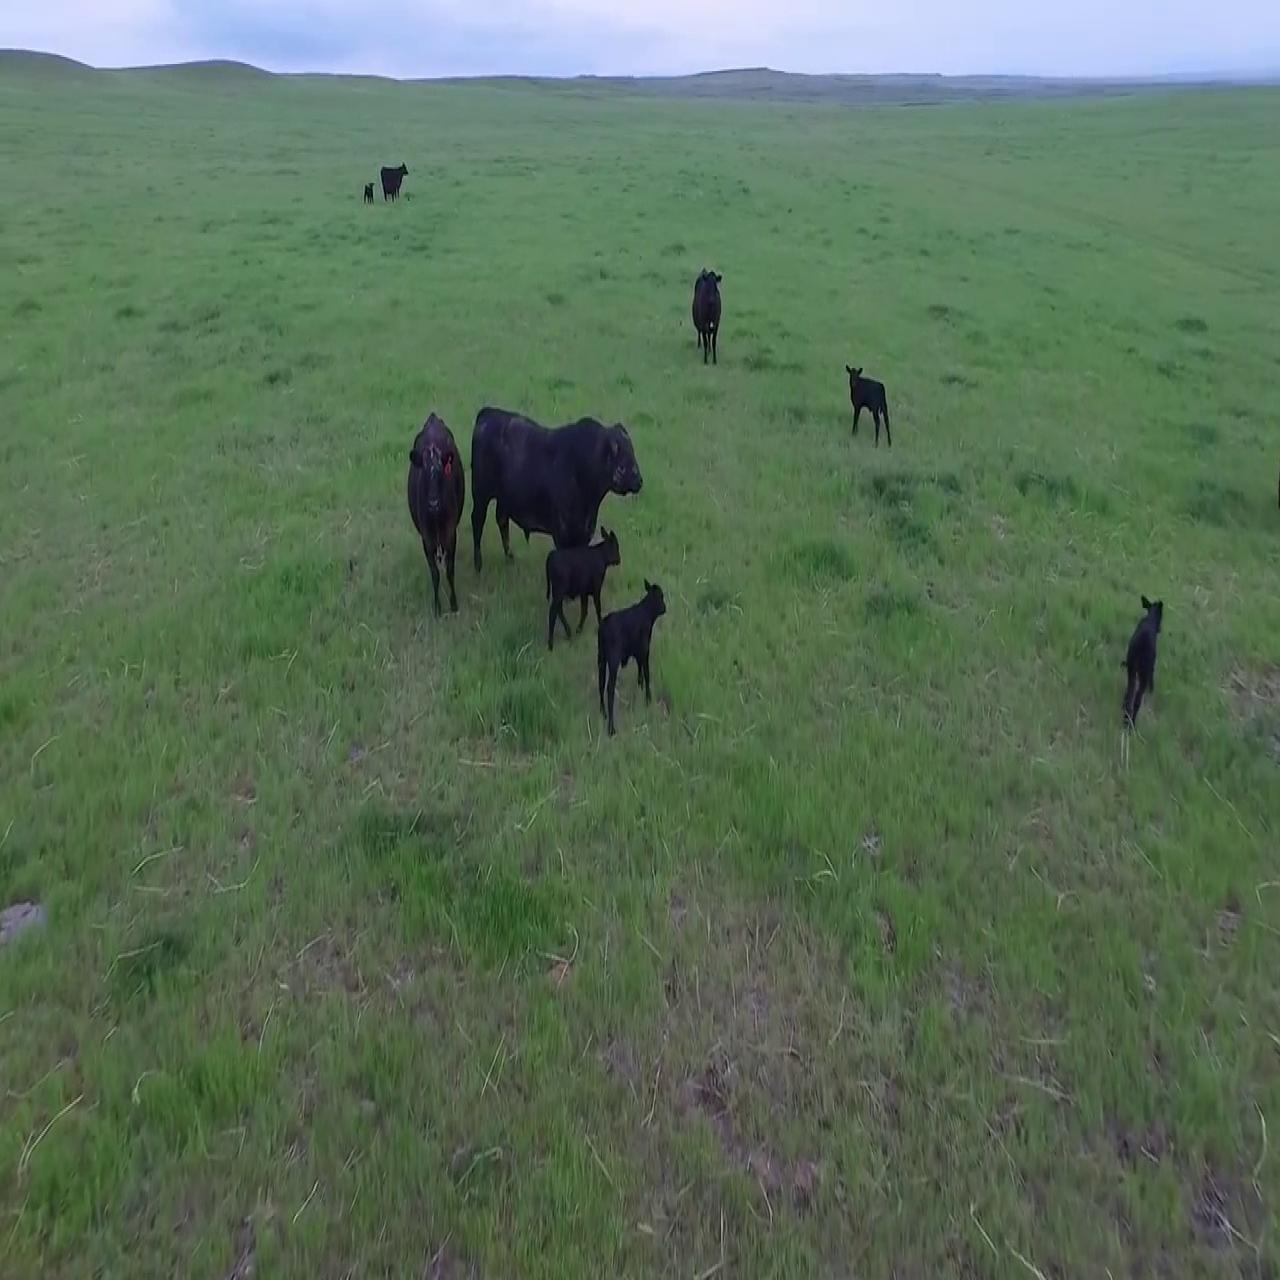cow: (471, 404, 641, 614), (404, 403, 468, 614), (588, 579, 666, 742), (542, 526, 622, 644), (1122, 592, 1164, 724), (843, 361, 892, 447), (689, 263, 727, 370), (377, 162, 407, 211), (359, 173, 379, 215)
